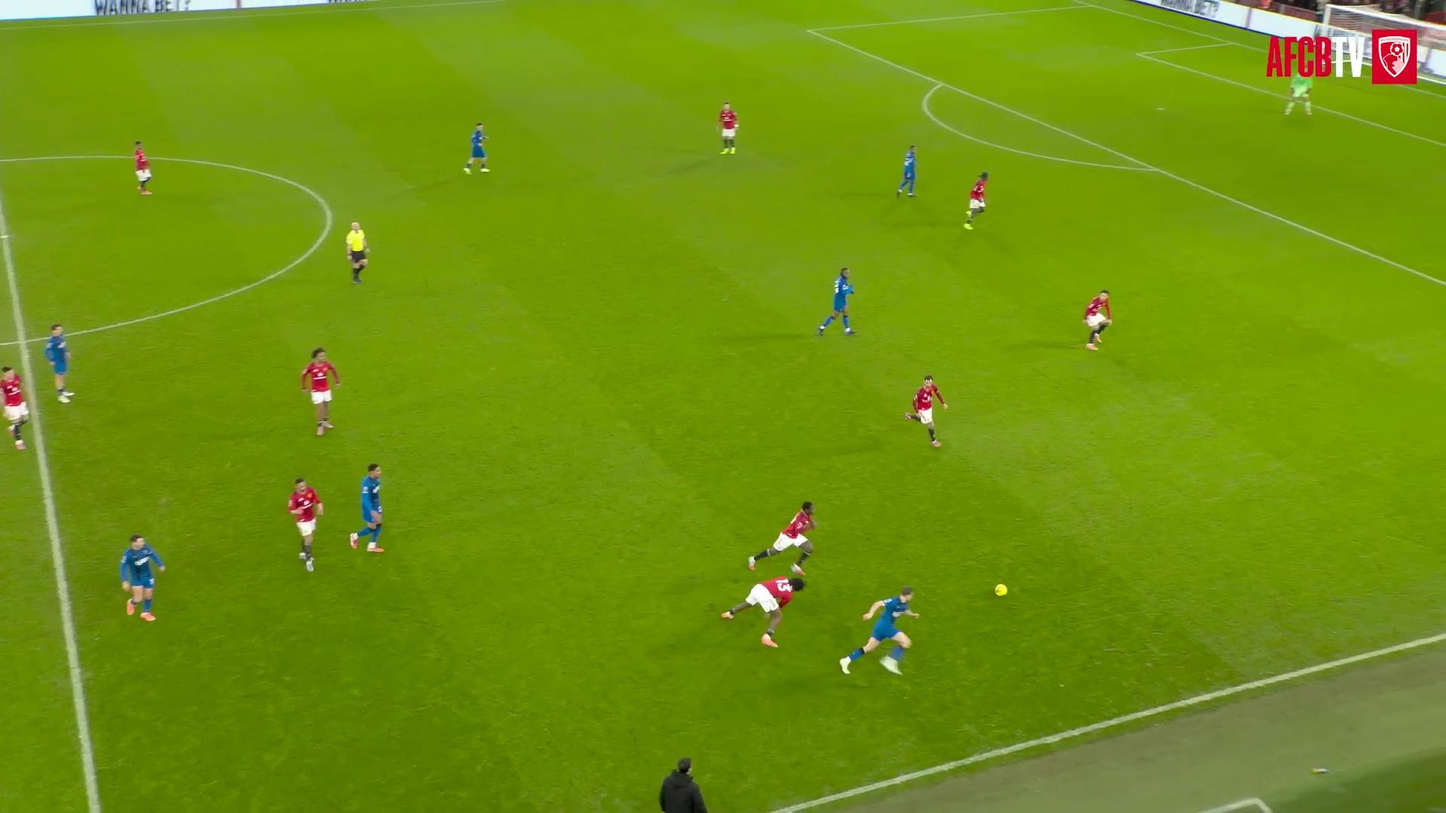football: (986, 581, 1019, 603)
player: (839, 586, 918, 674), (721, 578, 804, 647), (748, 501, 816, 575), (120, 534, 164, 621), (301, 347, 339, 434), (288, 478, 323, 571), (349, 464, 383, 553), (905, 376, 947, 447), (818, 267, 854, 335), (0, 366, 29, 449), (44, 323, 73, 403), (1084, 290, 1112, 350), (964, 172, 988, 229), (464, 122, 490, 174), (1284, 75, 1313, 114), (896, 145, 916, 196), (718, 102, 737, 154), (134, 141, 151, 195)
referee: (346, 222, 368, 283)
